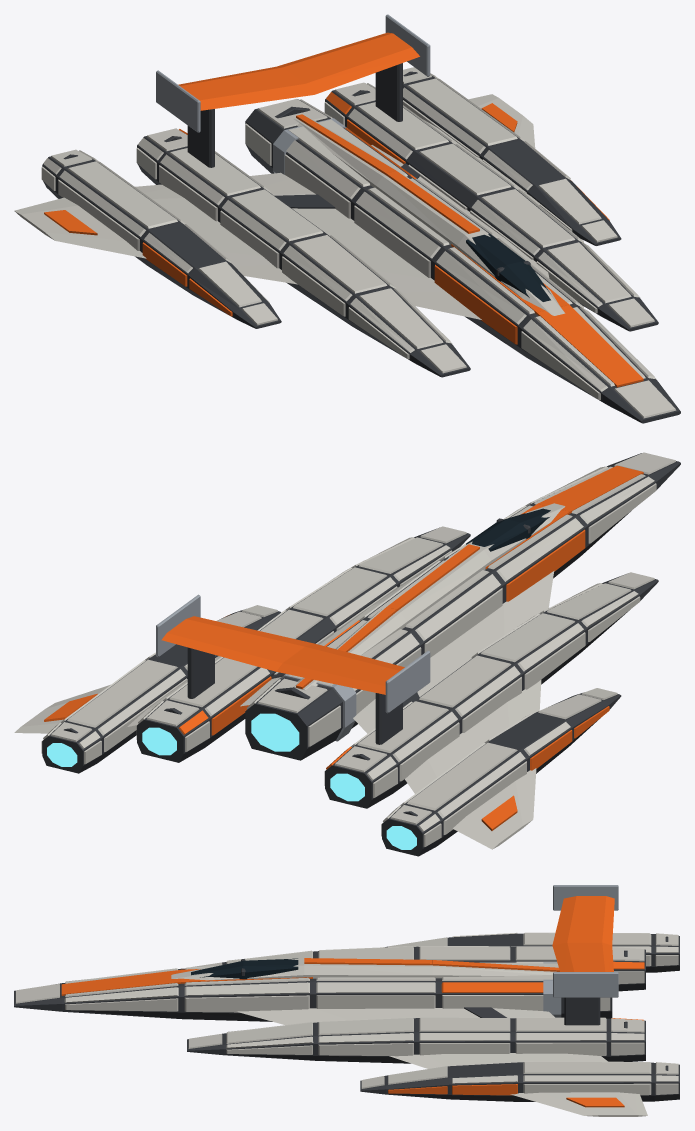
File: player_marauder.glb
The picture shows the model from 3 angles, top to bottom: view 1: azimuth 30°, elevation 25°; view 2: azimuth 150°, elevation 25°; view 3: azimuth 270°, elevation 25°; orthographic projection. The views are drawn at different scales.
Visible parts, largest first — view 1: primary, structure, accent, accent2, glass; view 2: primary, structure, accent, engineGlow, accent2, glass; view 3: primary, structure, accent, accent2, glass.
Boxes of the visible parts, box(x1,y1,x2,y2) form: primary: box(14, 67, 676, 418); structure: box(42, 63, 680, 423); accent: box(44, 32, 643, 387); accent2: box(156, 14, 430, 174); glass: box(466, 234, 550, 301); primary: box(14, 452, 675, 849); structure: box(42, 453, 680, 856); accent: box(44, 465, 643, 830); engineGlow: box(47, 713, 416, 849); accent2: box(156, 594, 430, 741); glass: box(466, 508, 550, 551); primary: box(15, 932, 678, 1116); structure: box(14, 933, 679, 1101); accent: box(61, 896, 644, 1107); accent2: box(543, 885, 618, 1017); glass: box(191, 958, 298, 979).
Bounding box in the file's own units: 9.71 × 2.59 × 15.1.
